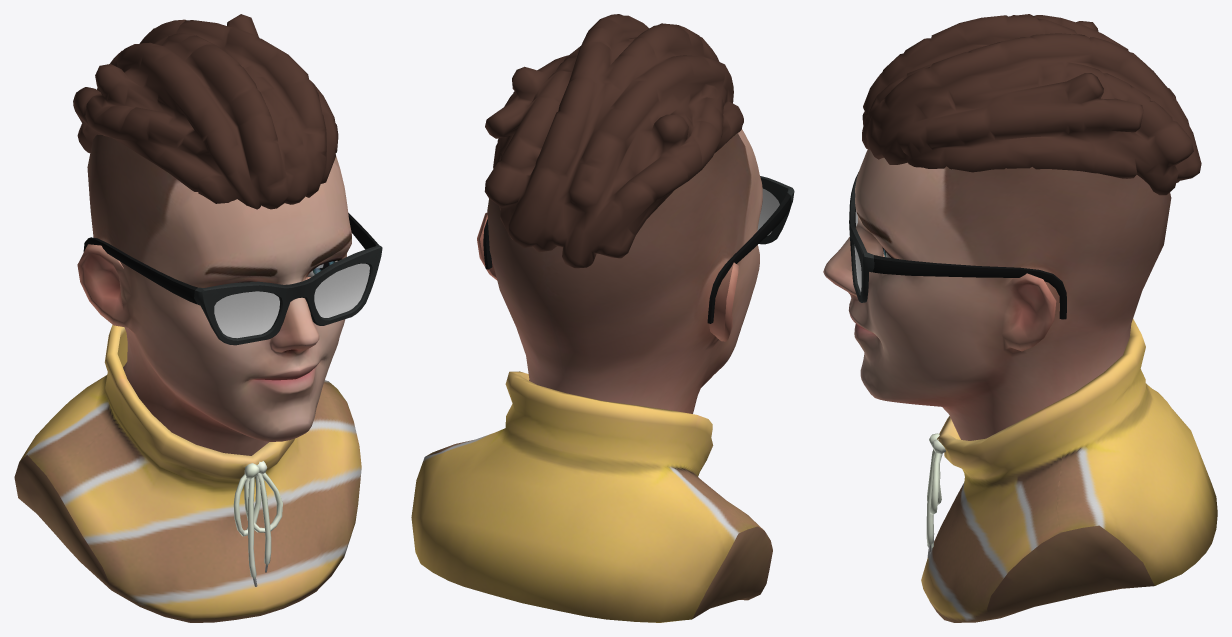
File: Halfbody-glassman.fbx
3 renders of one model, left to right at view 1: azimuth 30°, elevation 25°; view 2: azimuth 150°, elevation 25°; view 3: azimuth 270°, elevation 25°, orthographic. The views are drawn at different scales.
Visible parts, largest first — view 1: Wolf3D_Shirt, Wolf3D_Head, Wolf3D_Hair, Wolf3D_Glasses; view 2: Wolf3D_Shirt, Wolf3D_Head, Wolf3D_Hair, Wolf3D_Glasses; view 3: Wolf3D_Head, Wolf3D_Shirt, Wolf3D_Hair, Wolf3D_Glasses.
Part boxes in pixels (bbox=[...]): Wolf3D_Shirt: bbox=[14, 325, 361, 622]; Wolf3D_Head: bbox=[77, 134, 351, 455]; Wolf3D_Hair: bbox=[73, 14, 338, 209]; Wolf3D_Glasses: bbox=[83, 213, 382, 345]; Wolf3D_Shirt: bbox=[411, 371, 772, 622]; Wolf3D_Head: bbox=[477, 129, 762, 413]; Wolf3D_Hair: bbox=[484, 14, 743, 268]; Wolf3D_Glasses: bbox=[483, 176, 794, 323]; Wolf3D_Head: bbox=[823, 149, 1171, 440]; Wolf3D_Shirt: bbox=[921, 319, 1217, 622]; Wolf3D_Hair: bbox=[862, 14, 1201, 195]; Wolf3D_Glasses: bbox=[849, 172, 1066, 319].
Size of the model in its own units: 22.44 by 38.98 by 24.52.
6 materials, 6 textured.
